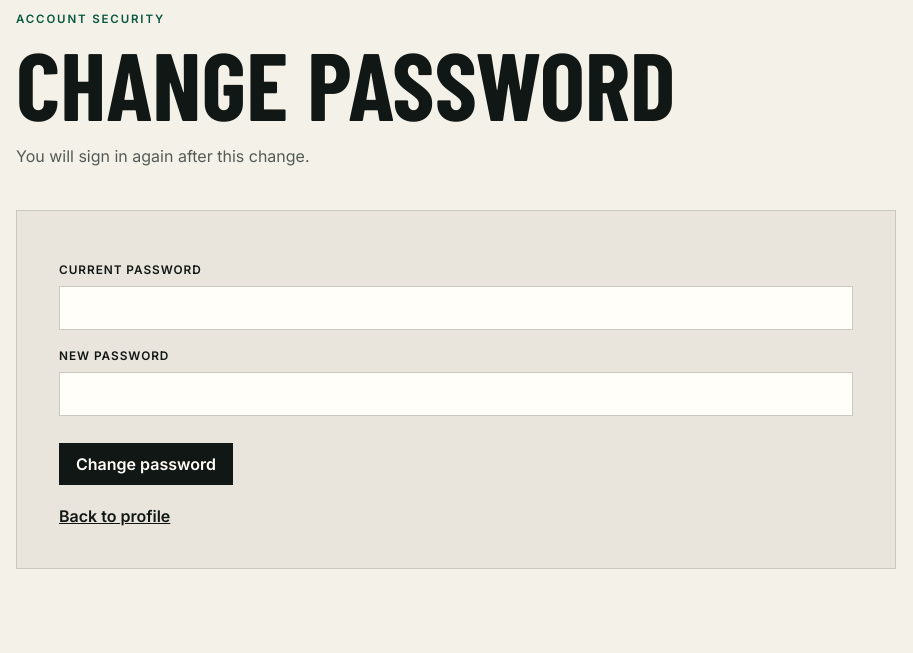
Test: reports a rejected current password and preserves both fields
The image size is (913, 653).
Step 1. Type "wrong-password" into the password field labelled "Current password" → (456, 308), box x1=59 y1=286 x2=853 y2=330
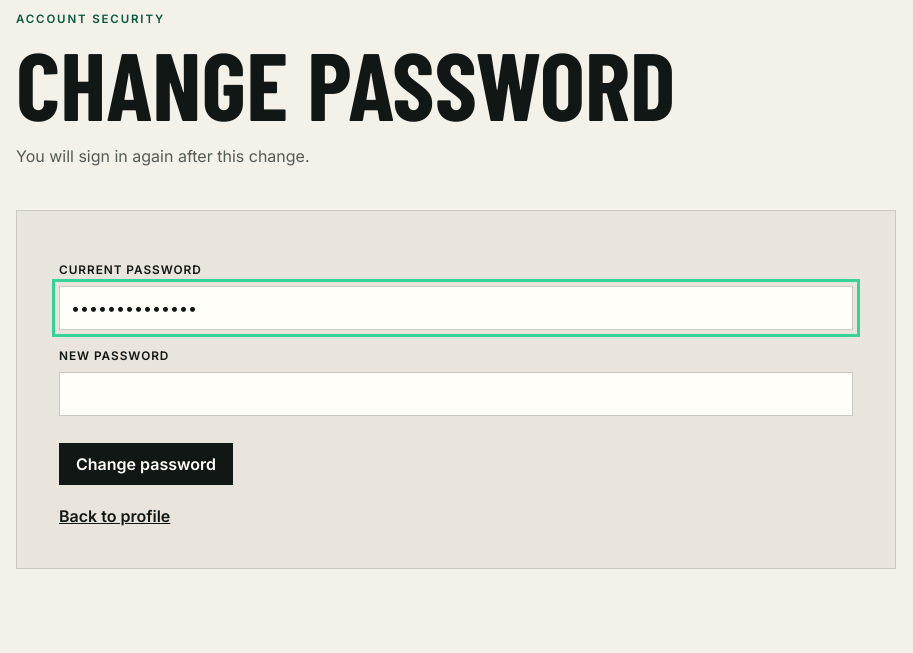
Step 2. Type "new-password" into the password field labelled "New password" → (456, 394), box x1=59 y1=372 x2=853 y2=416
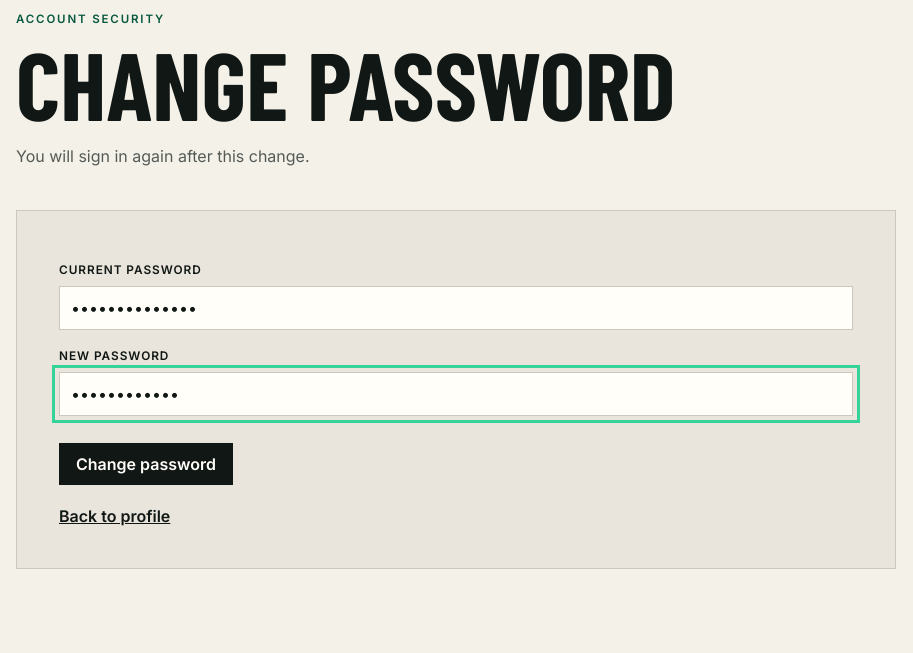
Step 3. Click the button "Change password" → (146, 464), box x1=59 y1=443 x2=233 y2=485
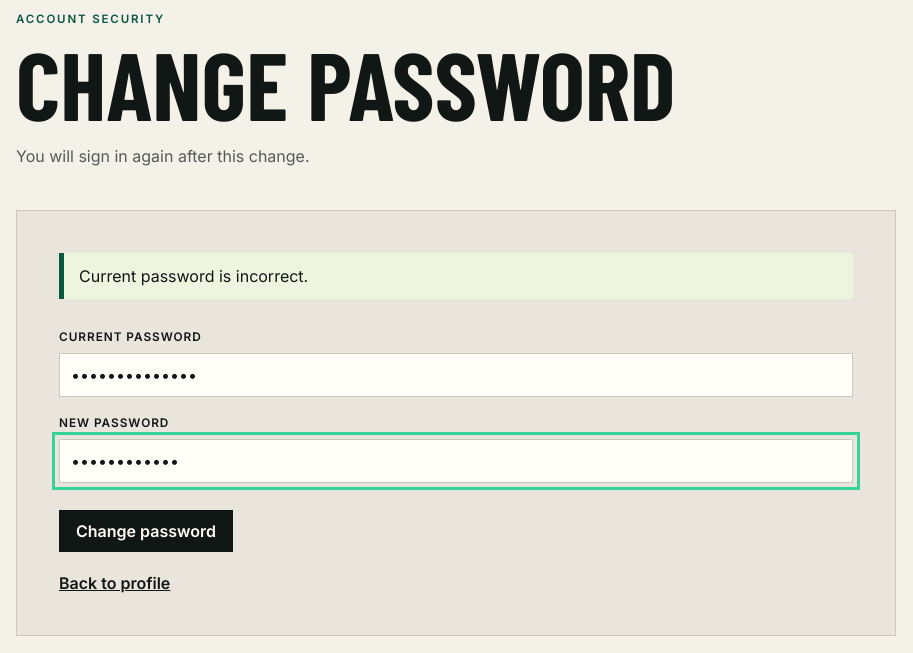
Expected: the text "Current password is incorrect." is shown, x1=59 y1=253 x2=853 y2=299
